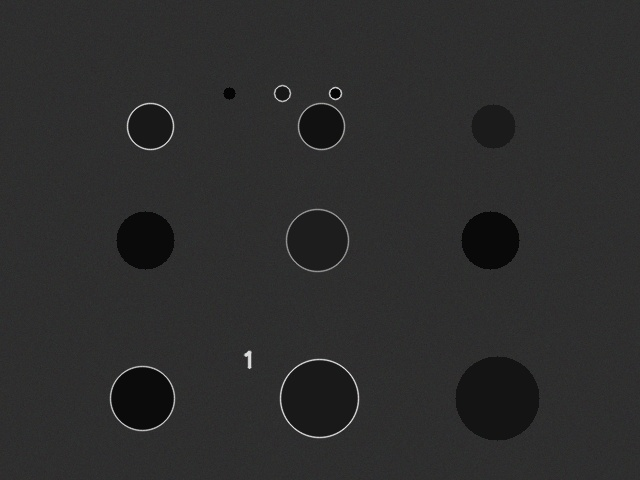hole: (455, 356, 539, 440), (280, 359, 358, 437), (110, 366, 174, 430), (286, 209, 348, 271), (116, 211, 174, 269), (461, 211, 519, 269), (127, 103, 173, 149), (298, 103, 344, 149), (471, 104, 515, 148), (274, 85, 290, 101), (223, 87, 235, 99), (329, 87, 341, 99)
